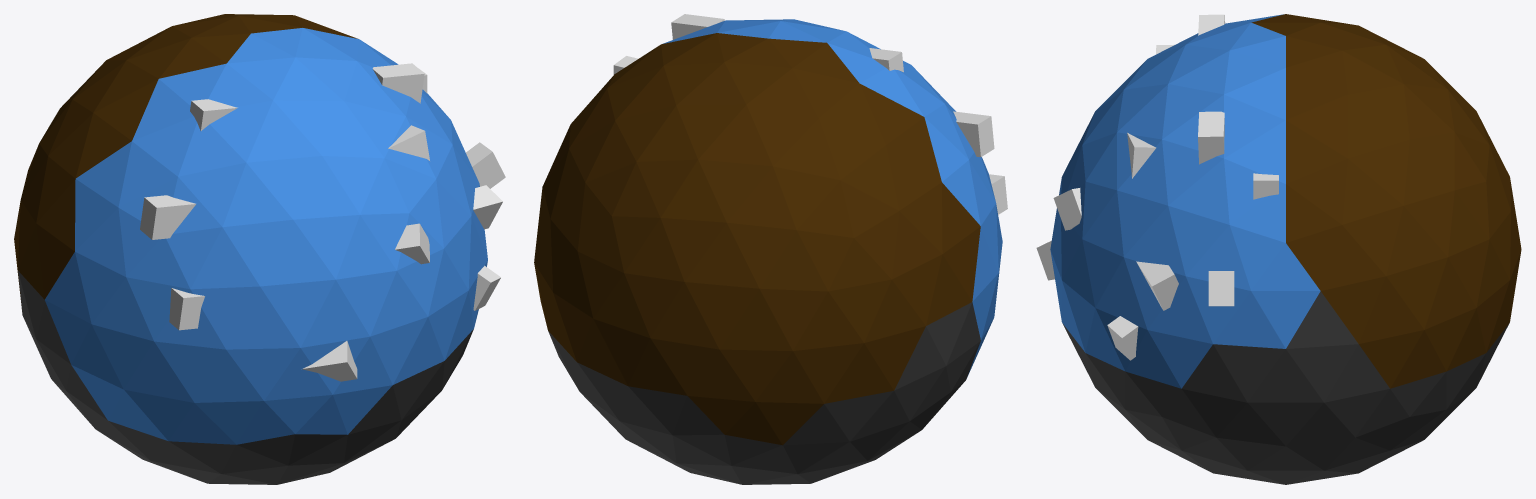
Rendered from planet 1x2x3x.fbx.
The picture shows the model from 3 angles, left to right: view 1: azimuth 30°, elevation 25°; view 2: azimuth 150°, elevation 25°; view 3: azimuth 270°, elevation 25°; orthographic projection.
Visible parts, largest first — view 1: Icosphere, Cube.007, Cube.006, Cube.008, Cube.004, Cube.002, Cube.003, Cube.010, Cube.005, Cube.001, Cube.009; view 2: Icosphere, Cube.007, Cube.006, Cube.005, Cube.004; view 3: Icosphere, Cube.006, Cube.010, Cube.002, Cube.009, Cube.003, Cube.001, Cube.
Boxes of the visible parts, x1,y1,x2,y2 form: Icosphere: (14, 14, 487, 484); Cube.007: (140, 195, 195, 239); Cube.006: (372, 63, 424, 103); Cube.008: (302, 341, 357, 381); Cube.004: (169, 288, 204, 330); Cube.002: (466, 142, 505, 188); Cube.003: (395, 223, 429, 264); Cube.010: (473, 185, 502, 229); Cube.005: (190, 99, 237, 130); Cube.001: (388, 125, 429, 160); Cube.009: (473, 265, 500, 310); Icosphere: (534, 19, 1002, 484); Cube.007: (953, 111, 994, 157); Cube.006: (671, 14, 724, 39); Cube.005: (869, 48, 903, 72); Cube.004: (989, 174, 1007, 214); Icosphere: (1050, 14, 1521, 484); Cube.006: (1198, 111, 1224, 164); Cube.010: (1136, 261, 1178, 310); Cube.002: (1208, 271, 1234, 306); Cube.009: (1107, 316, 1138, 360); Cube.003: (1053, 188, 1081, 230); Cube.001: (1127, 132, 1156, 178); Cube: (1253, 173, 1278, 199).
Size of the model in its own units: 2045 by 2000 by 2059.
